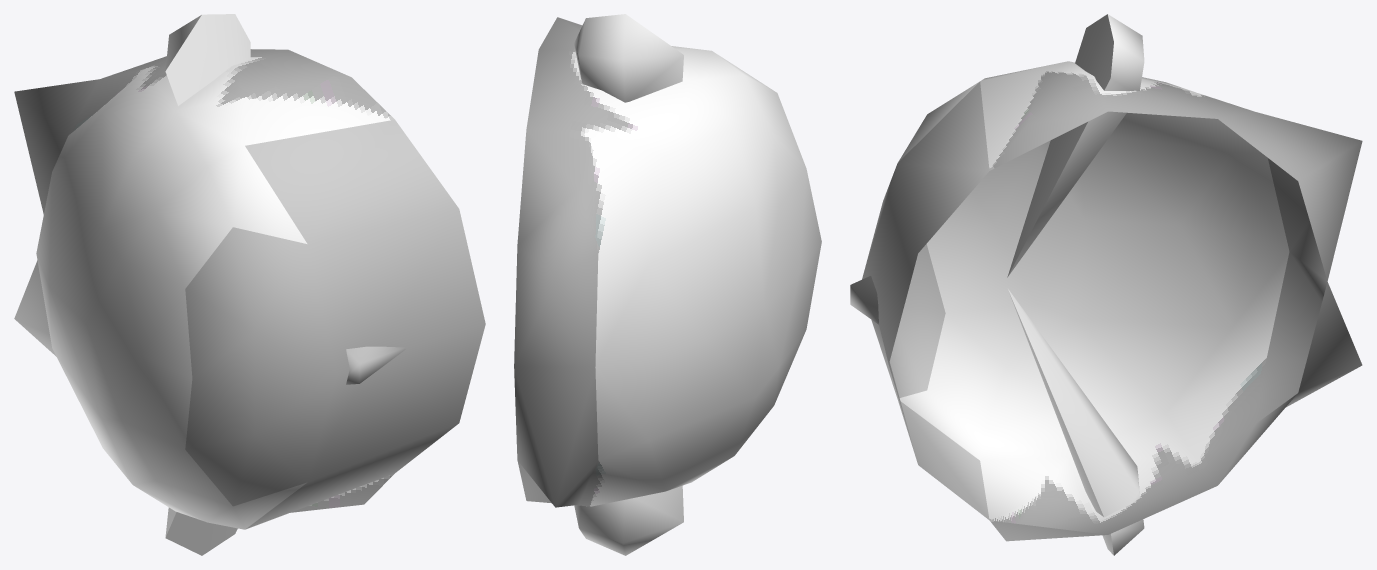
File: boy02b.dae
3 views of the same model, side by side, from view 1: azimuth 30°, elevation 25°; view 2: azimuth 150°, elevation 25°; view 3: azimuth 270°, elevation 25° (orthographic).
Parts seen in each view (by area): view 1: vsn_mesh_0_, vsn_mesh_1_, vsn_mesh_2_; view 2: vsn_mesh_0_; view 3: vsn_mesh_0_, vsn_mesh_1_, vsn_mesh_2_.
Boxes of the visible parts, box(x1,y1,x2,y2) form: vsn_mesh_0_: box(14, 14, 394, 555); vsn_mesh_1_: box(245, 119, 485, 529); vsn_mesh_2_: box(185, 227, 336, 506); vsn_mesh_0_: box(514, 14, 821, 555); vsn_mesh_0_: box(898, 14, 1362, 555); vsn_mesh_1_: box(850, 81, 989, 520); vsn_mesh_2_: box(862, 166, 945, 397).
Bounding box in the file's own units: 15.5 × 26.71 × 23.17.
Materials: 3 (1 with a texture image).
